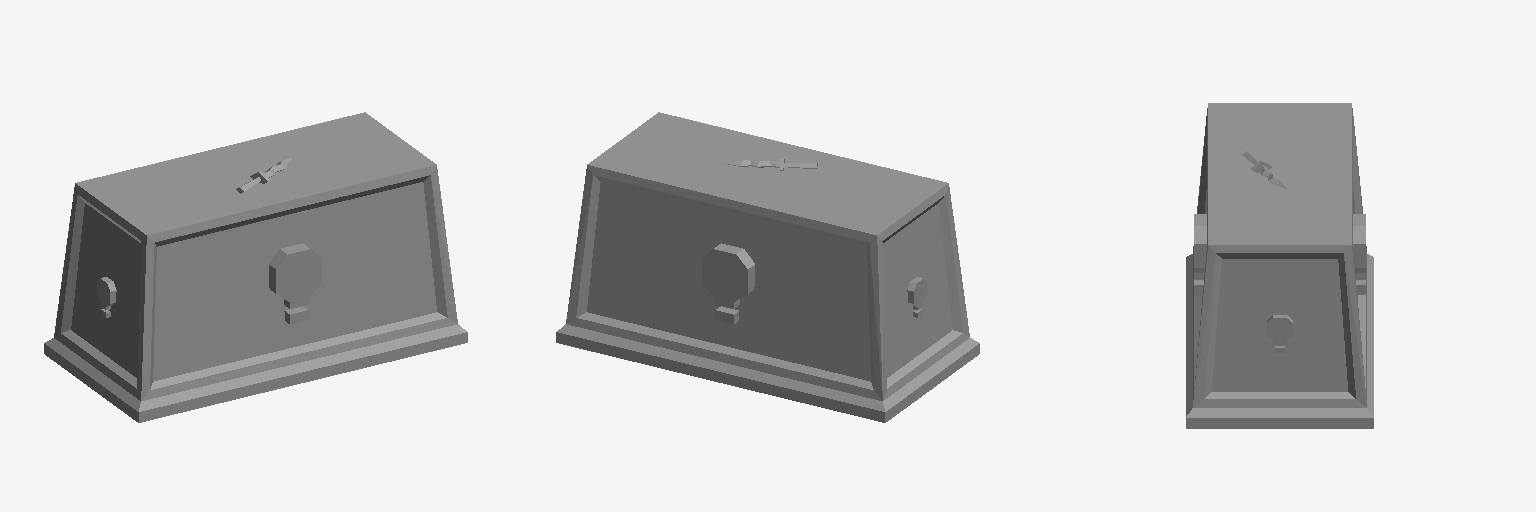
3 renders of one model, left to right at view 1: azimuth 30°, elevation 25°; view 2: azimuth 150°, elevation 25°; view 3: azimuth 270°, elevation 25°, orthographic.
Visible parts, largest first — view 1: Sacrifice_Table; view 2: Sacrifice_Table; view 3: Sacrifice_Table.
Boxes of the visible parts, x1,y1,x2,y2 form: Sacrifice_Table: [44, 112, 467, 422]; Sacrifice_Table: [556, 112, 979, 422]; Sacrifice_Table: [1186, 103, 1373, 428].
Bounding box in the file's own units: 2.38 × 1.28 × 1.18.